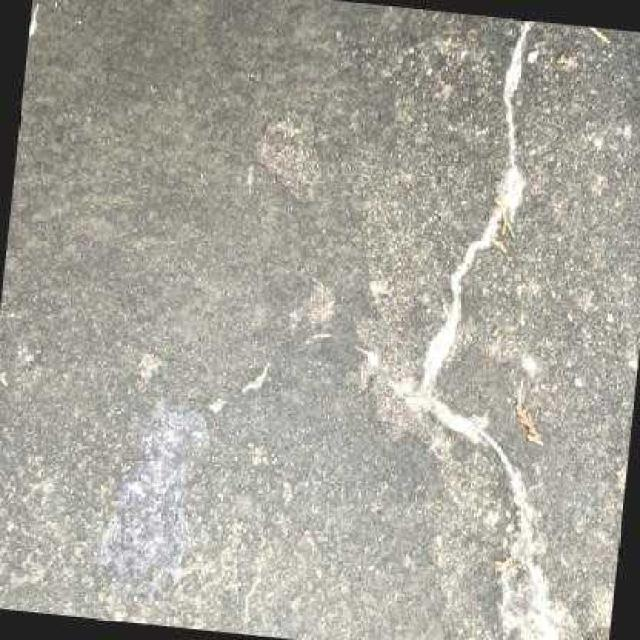D00: (387, 19, 561, 640)
